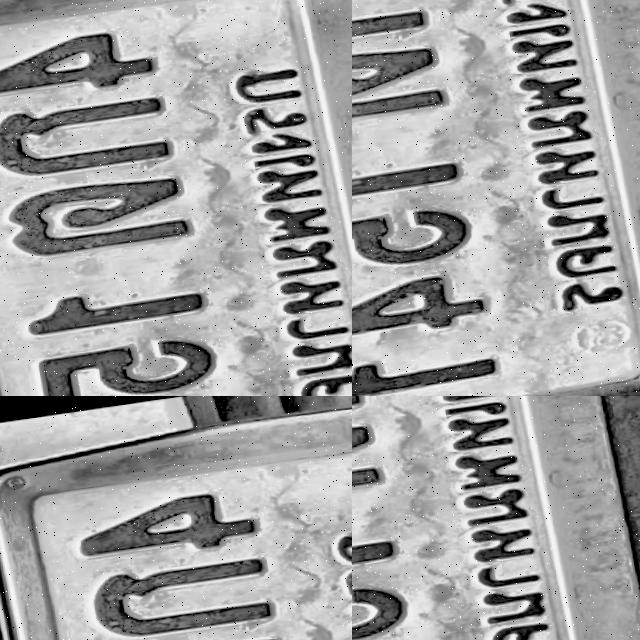license-plate: (0, 396, 352, 640), (352, 396, 640, 640), (0, 0, 58, 157)
